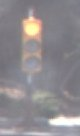Red: (15, 12, 41, 84)
